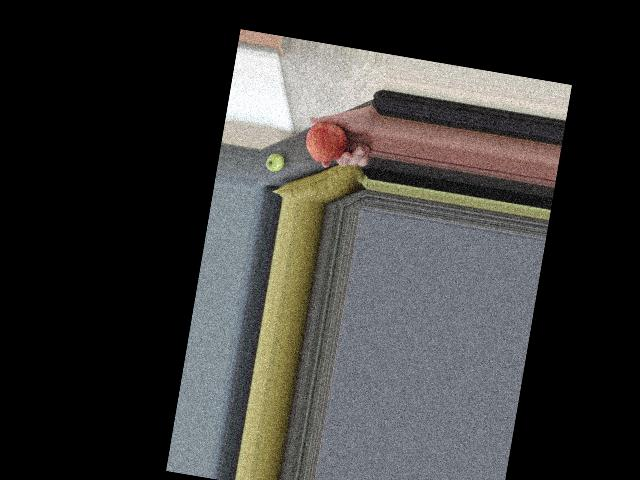apple: (262, 151, 290, 179)
